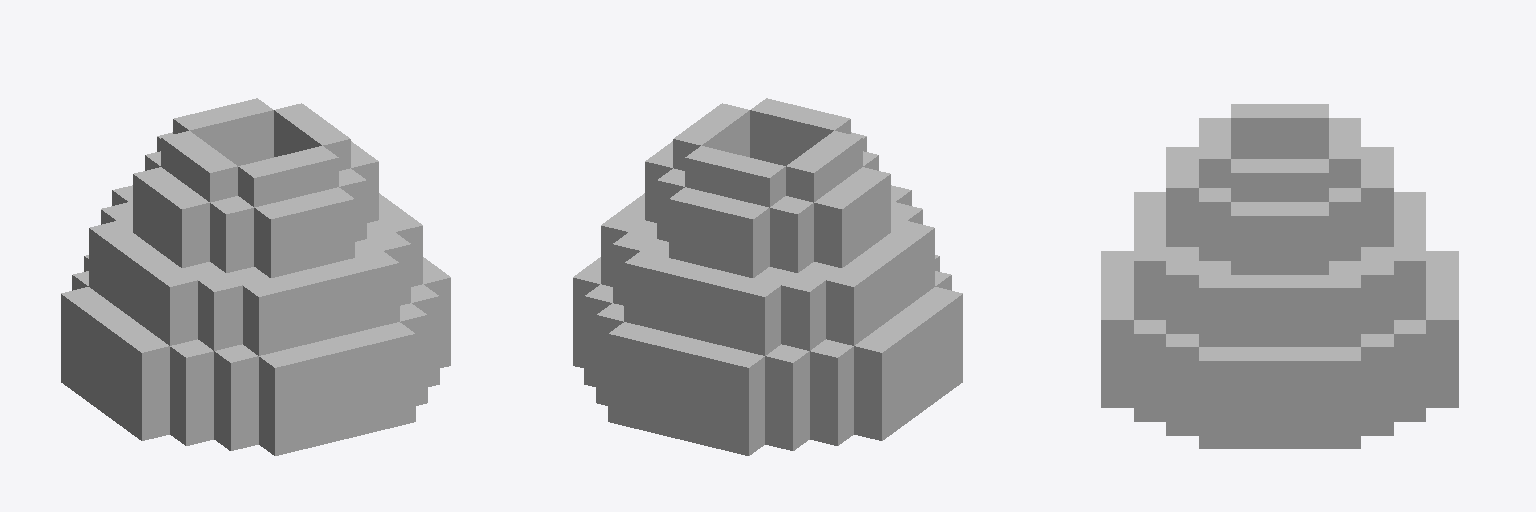
The model's file is MortarTowerTop.obj.
3 renders of one model, left to right at view 1: azimuth 30°, elevation 25°; view 2: azimuth 150°, elevation 25°; view 3: azimuth 270°, elevation 25°, orthographic.
Parts seen in each view (by area): view 1: Untitled; view 2: Untitled; view 3: Untitled.
Boxes of the visible parts, x1,y1,x2,y2 form: Untitled: [61, 98, 450, 455]; Untitled: [573, 98, 962, 455]; Untitled: [1101, 104, 1458, 448].
Size of the model in its own units: 1.1 by 0.8 by 1.1.